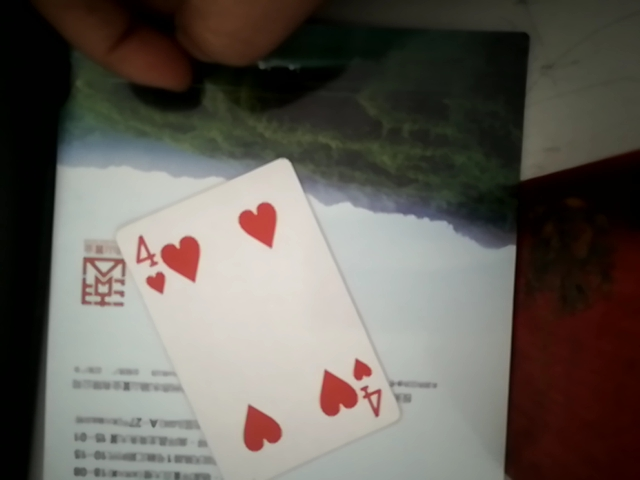hx 4: (69, 144, 413, 479)
